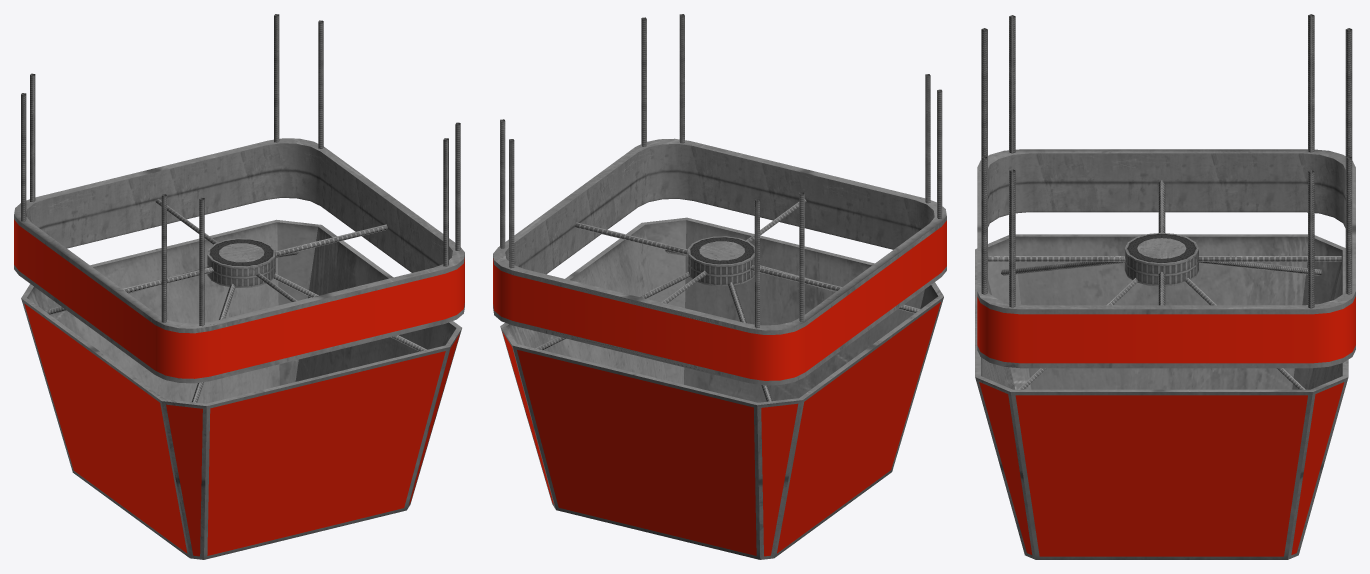
Rendered from Jumbotron.fbx.
3 views of the same model, side by side, from view 1: azimuth 30°, elevation 25°; view 2: azimuth 150°, elevation 25°; view 3: azimuth 270°, elevation 25° (orthographic). The views are drawn at different scales.
Visible parts, largest first — view 1: Jumbotron; view 2: Jumbotron; view 3: Jumbotron.
Part boxes in pixels (left/top/right/bottom): Jumbotron: left=14, top=14, right=464, bottom=559; Jumbotron: left=493, top=14, right=946, bottom=559; Jumbotron: left=975, top=14, right=1355, bottom=559.
Size of the model in its own units: 10.2 by 12.15 by 10.26.
